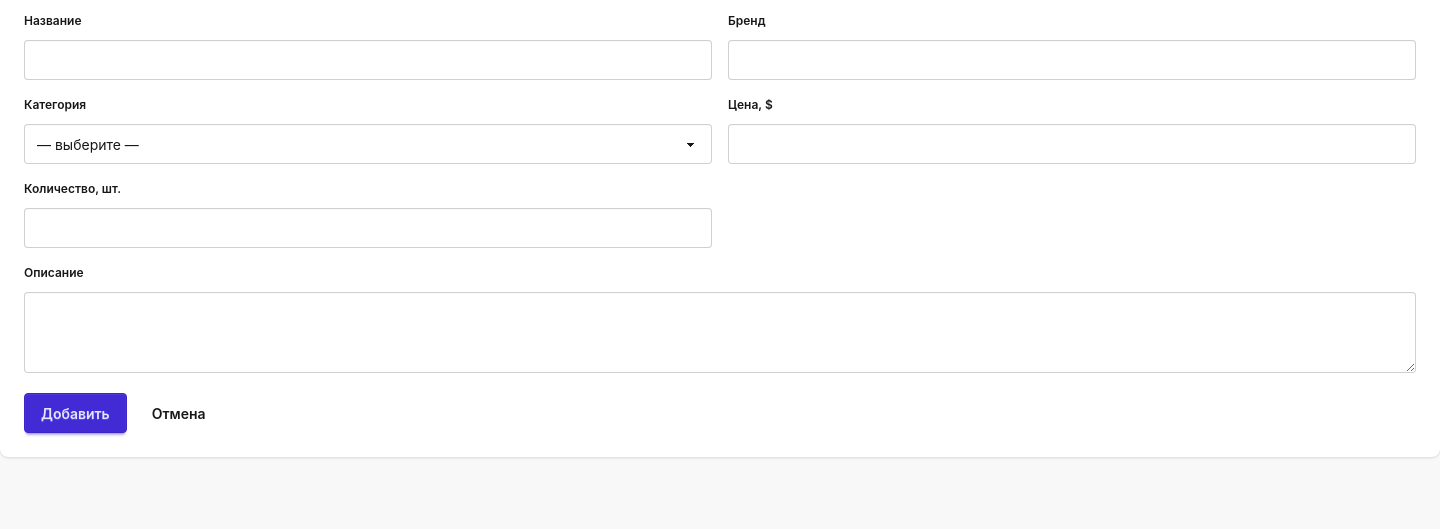
Scenario: CreateProductForm › показывает ошибку доступа, если сервер ответил 401
The image size is (1440, 529).
Type "Шапка зимняя" into the field labelled "Название" at (368, 60), box [24,40,712,80]
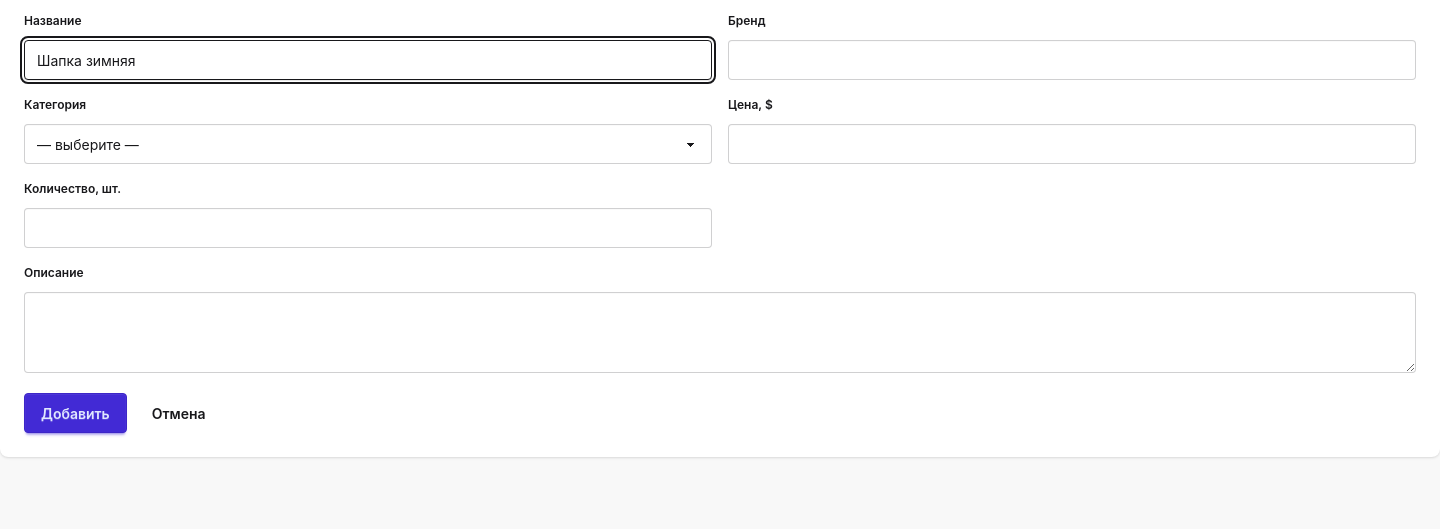
Select "tops" in the dropdown labelled "Категория" at (368, 144), box [24,124,712,164]
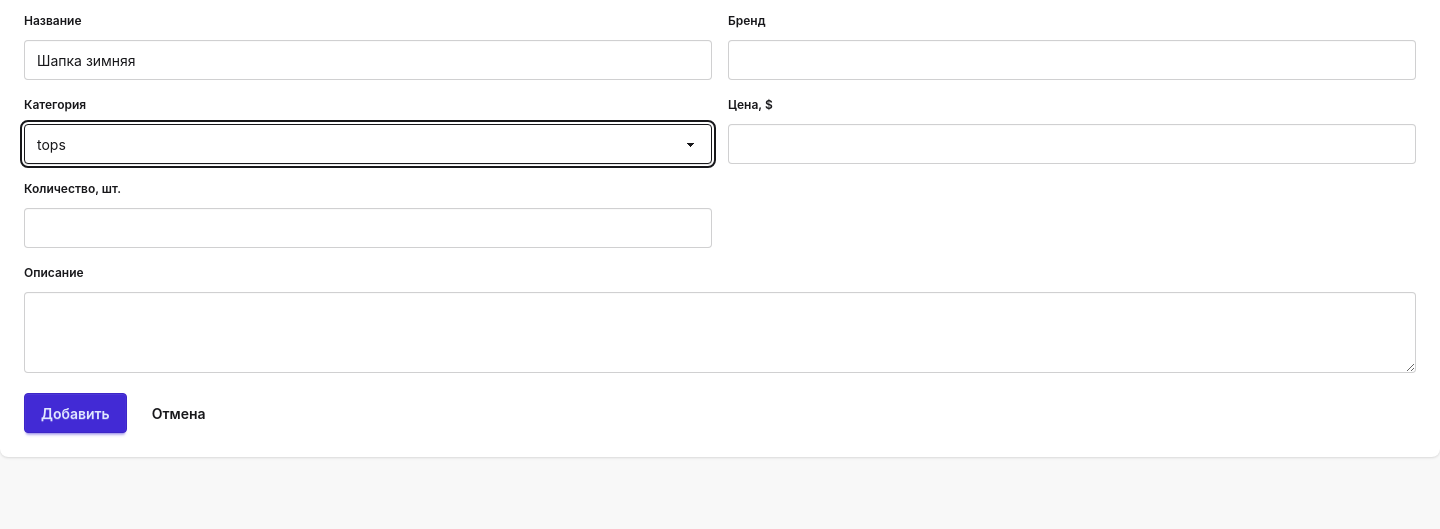
Type "25" into the number field labelled "Цена, $" at (1072, 144), box [728,124,1416,164]
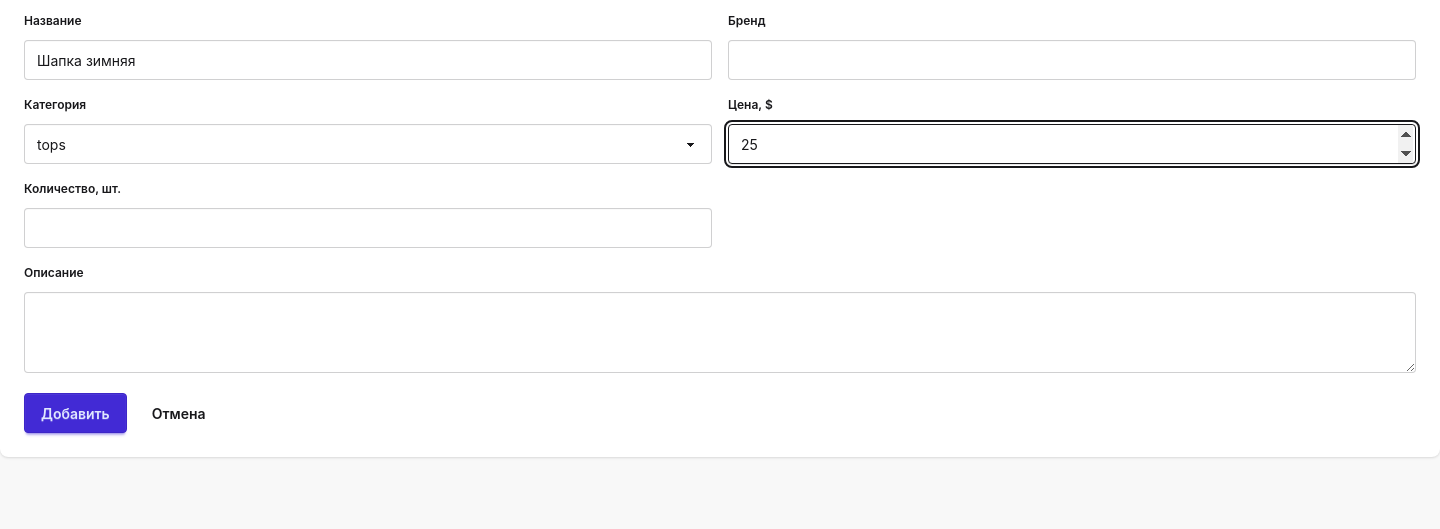
Type "40" into the number field labelled "Количество, шт." at (368, 228), box [24,208,712,248]
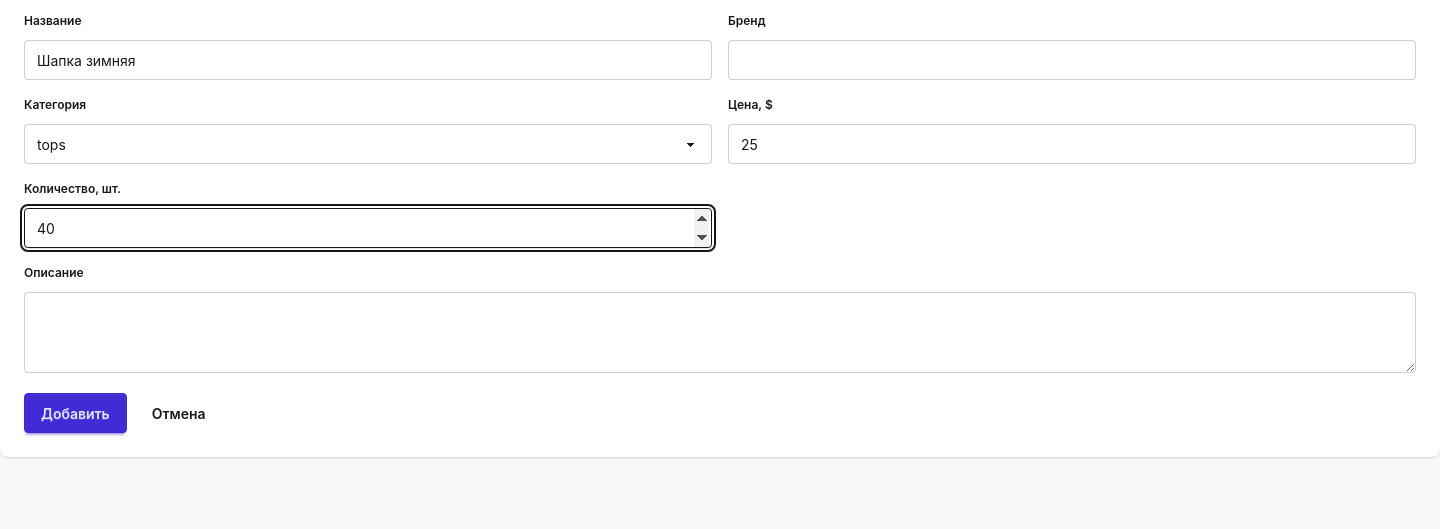
Click the button "Добавить" at (75, 413), box [24,393,127,433]
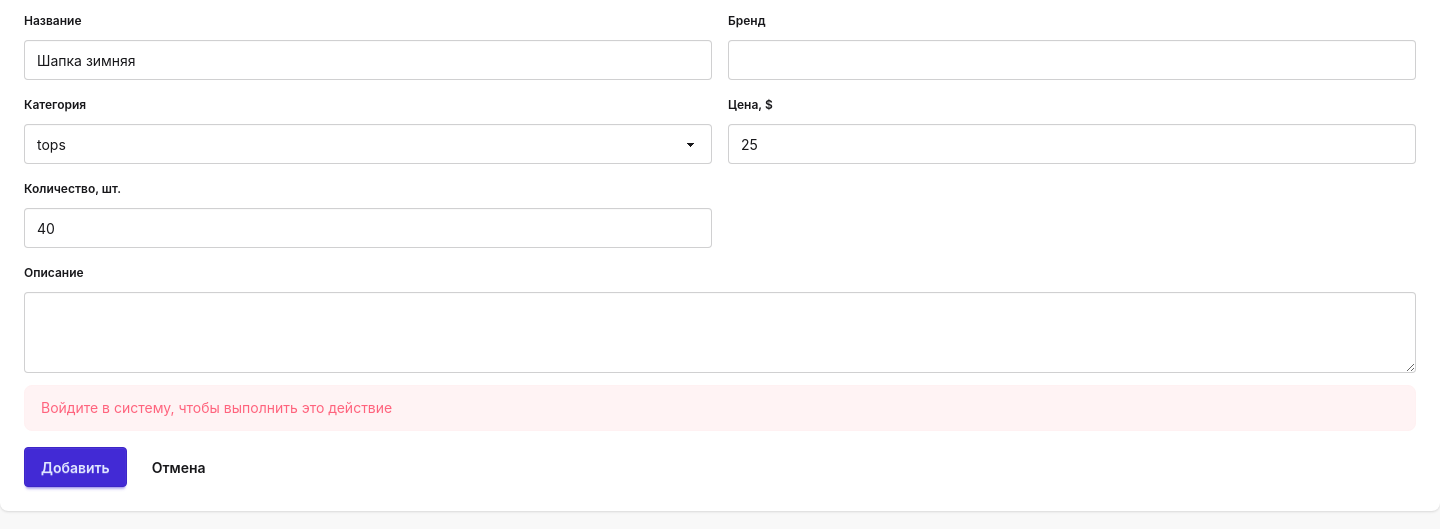
Now the message reads "Войдите в систему, чтобы выполнить это действие", box [41,399,392,416]
